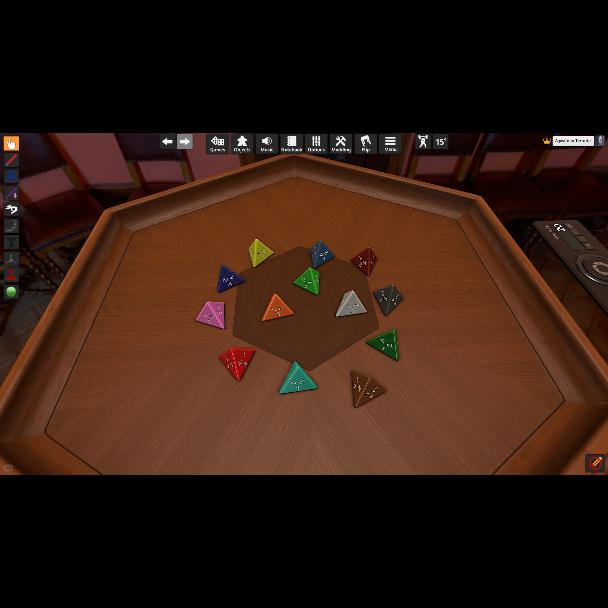d4: (350, 370, 386, 408), (280, 361, 316, 395), (220, 346, 254, 380), (366, 330, 398, 360), (373, 285, 403, 317), (262, 294, 294, 322), (195, 300, 223, 330), (336, 290, 366, 318), (217, 266, 244, 294), (352, 247, 377, 277), (294, 268, 320, 296), (248, 239, 272, 269), (310, 240, 332, 270)
